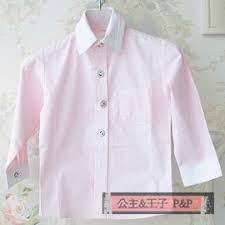C_shirt: (7, 7, 222, 216)
